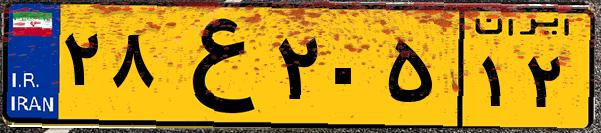0: (330, 28, 385, 110)
1: (475, 38, 525, 113)
2: (270, 28, 330, 110), (57, 26, 110, 100), (525, 38, 570, 115)
5: (385, 28, 445, 110)
8: (110, 28, 158, 98)
ع: (158, 12, 270, 120)
